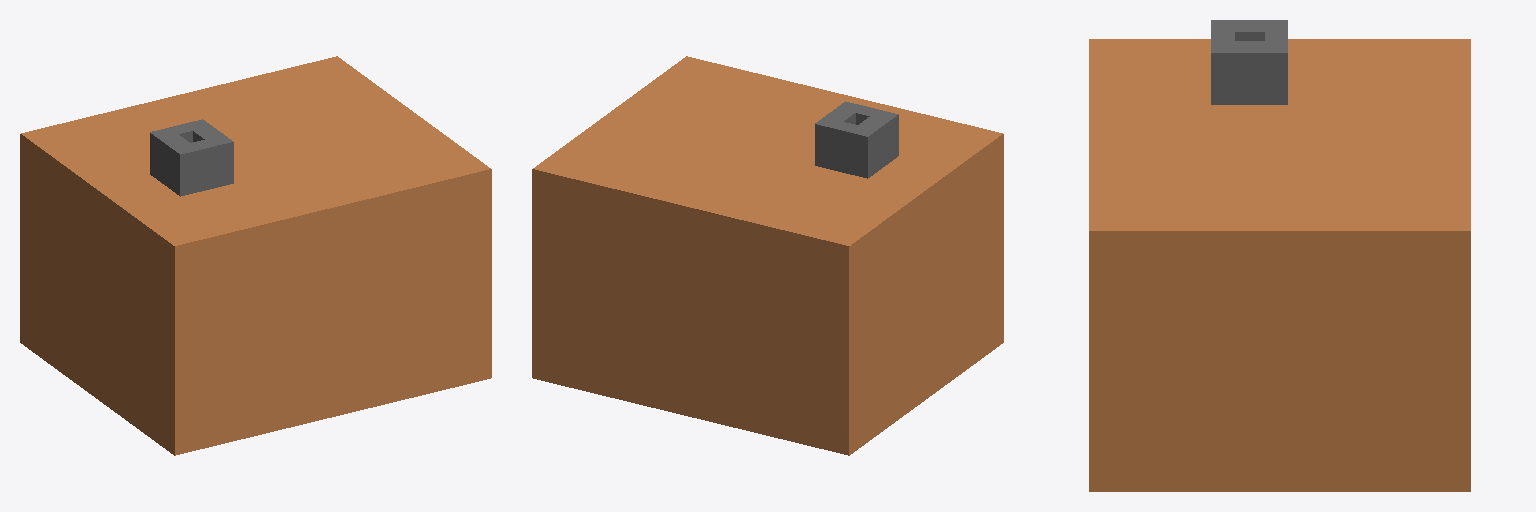
URDF robot description (peg_in_hole_tolerances_scenes_scene_0061_tol04):
<?xml version="1.0"?>
<robot name="peg_in_hole_tolerances_scenes_scene_0061_tol04">
  <material name="wood"><color rgba="0.82 0.56 0.35 1.0"/></material>
  <material name="hole_grey"><color rgba="0.4706 0.4706 0.4706 1.0"/></material>
  <link name="box">
    <visual>
      <origin xyz="0.000000 0.000000 0.000000" rpy="0 0 0"/>
      <geometry><box size="0.475000 0.400000 0.300000"/></geometry>
      <material name="wood"/>
    </visual>
    <collision>
      <origin xyz="0.000000 0.000000 0.000000" rpy="0 0 0"/>
      <geometry><box size="0.475000 0.400000 0.300000"/></geometry>
    </collision>
    <visual>
      <origin xyz="-0.114714 -0.031673 0.155000" rpy="0 0 0"/>
      <geometry><box size="0.080000 0.080000 0.010000"/></geometry>
      <material name="hole_grey"/>
    </visual>
    <collision>
      <origin xyz="-0.114714 -0.031673 0.155000" rpy="0 0 0"/>
      <geometry><box size="0.080000 0.080000 0.010000"/></geometry>
    </collision>
    <visual>
      <origin xyz="-0.089353 -0.031673 0.185000" rpy="0 0 0"/>
      <geometry><box size="0.029278 0.080000 0.050000"/></geometry>
      <material name="hole_grey"/>
    </visual>
    <collision>
      <origin xyz="-0.089353 -0.031673 0.185000" rpy="0 0 0"/>
      <geometry><box size="0.029278 0.080000 0.050000"/></geometry>
    </collision>
    <visual>
      <origin xyz="-0.140074 -0.031673 0.185000" rpy="0 0 0"/>
      <geometry><box size="0.029278 0.080000 0.050000"/></geometry>
      <material name="hole_grey"/>
    </visual>
    <collision>
      <origin xyz="-0.140074 -0.031673 0.185000" rpy="0 0 0"/>
      <geometry><box size="0.029278 0.080000 0.050000"/></geometry>
    </collision>
    <visual>
      <origin xyz="-0.114714 -0.003812 0.185000" rpy="0 0 0"/>
      <geometry><box size="0.021443 0.024278 0.050000"/></geometry>
      <material name="hole_grey"/>
    </visual>
    <collision>
      <origin xyz="-0.114714 -0.003812 0.185000" rpy="0 0 0"/>
      <geometry><box size="0.021443 0.024278 0.050000"/></geometry>
    </collision>
    <visual>
      <origin xyz="-0.114714 -0.059534 0.185000" rpy="0 0 0"/>
      <geometry><box size="0.021443 0.024278 0.050000"/></geometry>
      <material name="hole_grey"/>
    </visual>
    <collision>
      <origin xyz="-0.114714 -0.059534 0.185000" rpy="0 0 0"/>
      <geometry><box size="0.021443 0.024278 0.050000"/></geometry>
    </collision>
    <inertial>
      <mass value="500"/>
      <friction value="1.0"/>
      <inertia ixx="1000.0" ixy="0.0" ixz="0.0" iyy="1000.0" iyz="0.0" izz="1000.0"/>
    </inertial>
  </link>
</robot>

--- What the picture shows (computed from the rendered views, not written in the file) ---
Views: 3 orthographic renders of the robot side by side, from view 1: azimuth 30°, elevation 25°; view 2: azimuth 150°, elevation 25°; view 3: azimuth 270°, elevation 25°.
Robot: peg_in_hole_tolerances_scenes_scene_0061_tol04 — 1 links, 0 joints (none); root link box; default pose: every joint at zero.
Visible links, largest first — view 1: box; view 2: box; view 3: box.
Boxes of the visible links, left/top/right/bottom form: box: left=20, top=56, right=491, bottom=455; box: left=532, top=56, right=1003, bottom=455; box: left=1089, top=20, right=1470, bottom=491.
Bounding box of the posed robot: 0.475 × 0.4 × 0.36 m (x, y, z).
Geometry: primitives only (box / cylinder / sphere), no mesh files.
